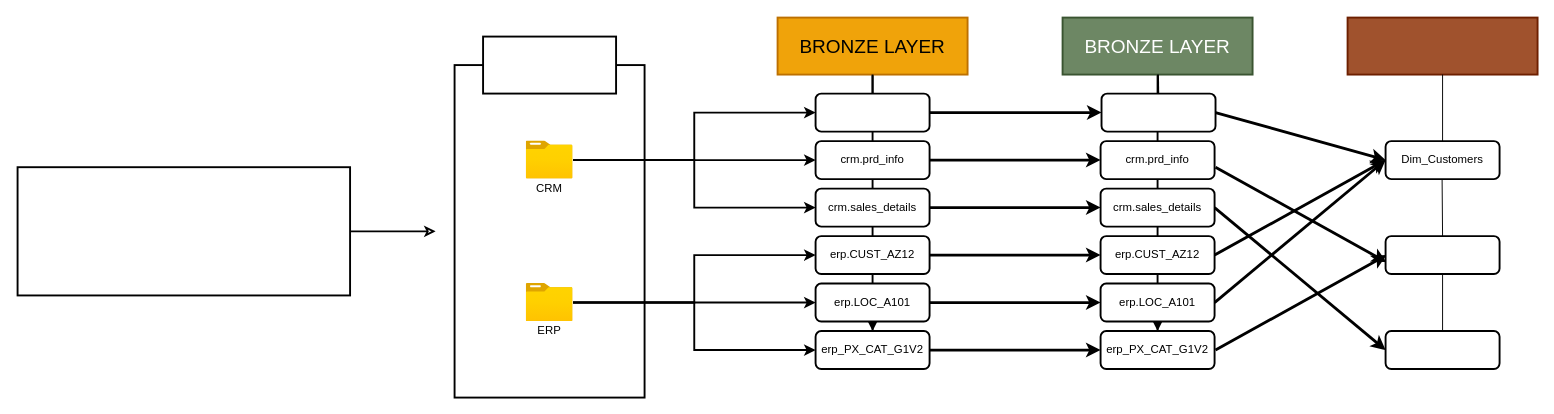
Image size: 1554x414. Some labels were removed from this diagram. Here are the shapes that lost their labels. From the top down, the centre of each, then its label:
pixel 549 64: SOURCES
pixel 1442 45: GOLD LAYER
pixel 872 112: crm.cust_id
pixel 1158 112: crm.cust_info
pixel 183 231: DATA-FLOW STRUCTURE
pixel 1442 255: Dim_Products
pixel 1442 350: Fact_Sales
